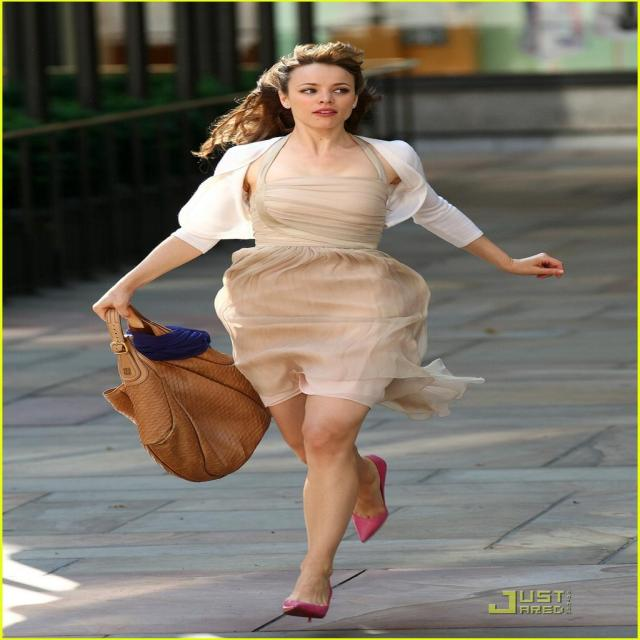Face: (285, 63, 370, 140)
